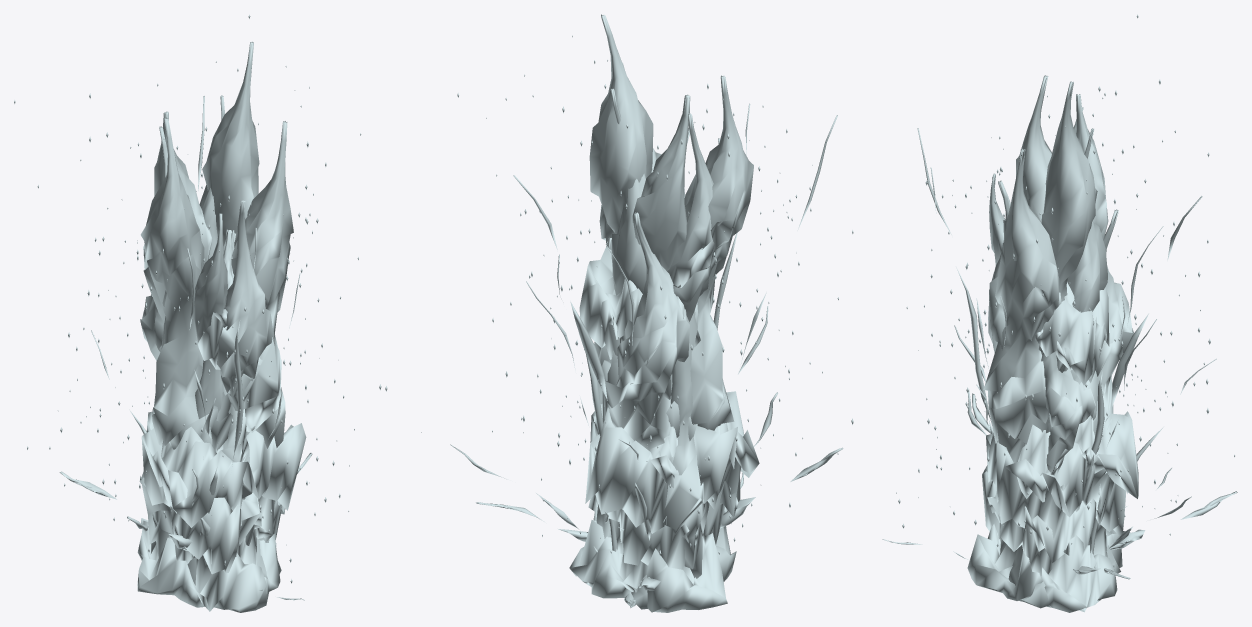
Rendered from tower-peak.glb.
3 renders of one model, left to right at view 1: azimuth 30°, elevation 25°; view 2: azimuth 150°, elevation 25°; view 3: azimuth 270°, elevation 25°, orthographic. The views are drawn at different scales.
Parts seen in each view (by area): view 1: Shell water / deforming core, jets and drops; view 2: Shell water / deforming core, jets and drops; view 3: Shell water / deforming core, jets and drops.
Part boxes in pixels (x1,y1,x2,y2): Shell water / deforming core, jets and drops: [14, 14, 421, 612]; Shell water / deforming core, jets and drops: [450, 14, 853, 612]; Shell water / deforming core, jets and drops: [882, 14, 1237, 612].
Size of the model in its own units: 0.6019 by 0.9566 by 0.5903.
